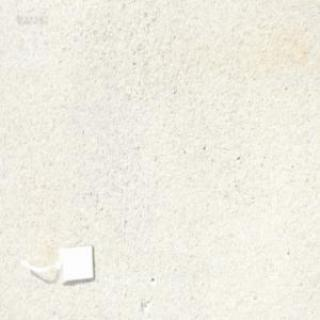LuggageTagtrack_idkeyframe: (17, 241, 96, 286)
